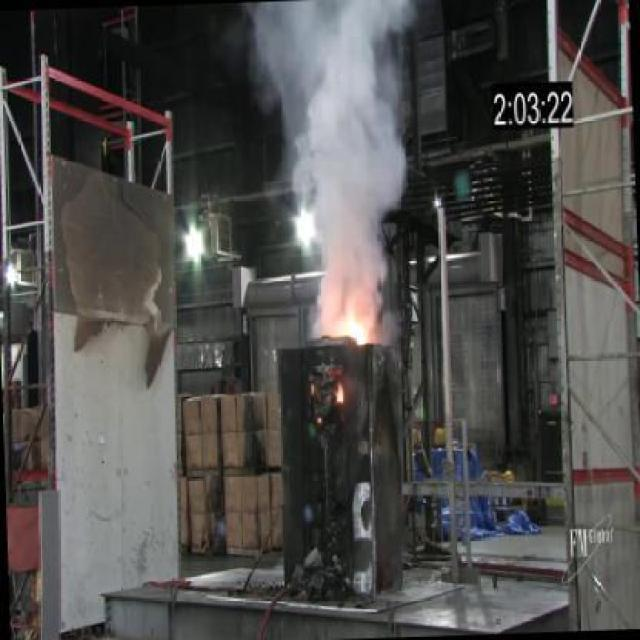fire: (252, 0, 418, 285)
smoke: (324, 298, 381, 350)
